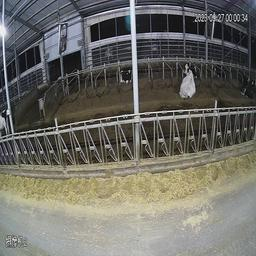cow: (171, 57, 202, 108), (115, 57, 133, 97), (239, 65, 255, 100)
